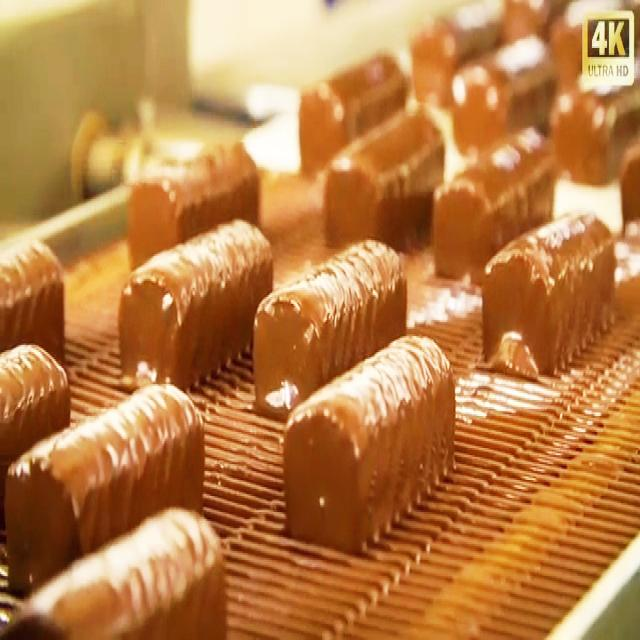Choco: (4, 379, 206, 590), (281, 329, 457, 553), (2, 507, 229, 640), (251, 233, 408, 418), (116, 214, 273, 388), (479, 204, 616, 377), (324, 107, 445, 260), (125, 135, 260, 267), (435, 131, 556, 278), (294, 47, 408, 159), (451, 49, 559, 155), (3, 229, 68, 365), (0, 339, 72, 443), (565, 89, 613, 190), (410, 14, 454, 117)
